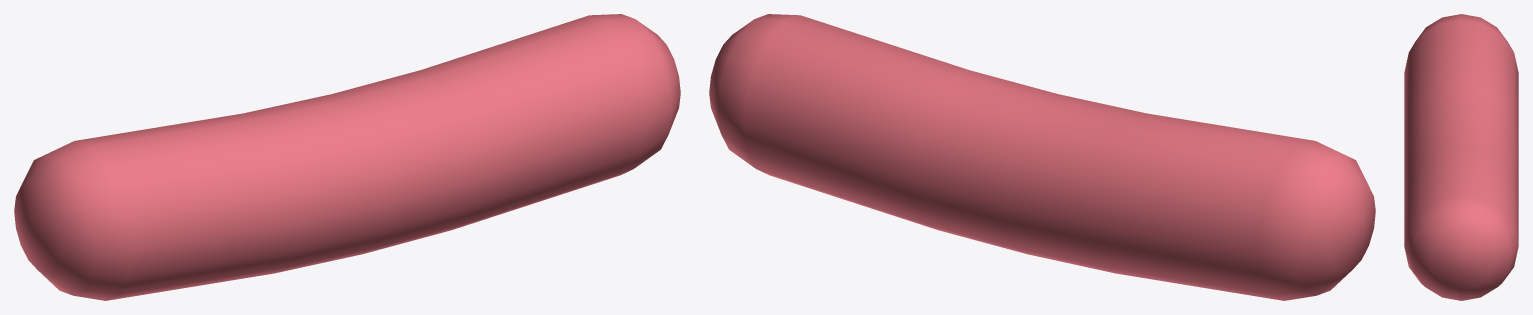
File: Sausage.fbx
3 renders of one model, left to right at view 1: azimuth 30°, elevation 25°; view 2: azimuth 150°, elevation 25°; view 3: azimuth 270°, elevation 25°, orthographic. The views are drawn at different scales.
Parts seen in each view (by area): view 1: Sausage; view 2: Sausage; view 3: Sausage.
Boxes of the visible parts, box(x1,y1,x2,y2) form: Sausage: box(14, 14, 680, 300); Sausage: box(709, 14, 1375, 300); Sausage: box(1404, 14, 1518, 300).
Bounding box in the file's own units: 78.7 × 19.4 × 17.52.
